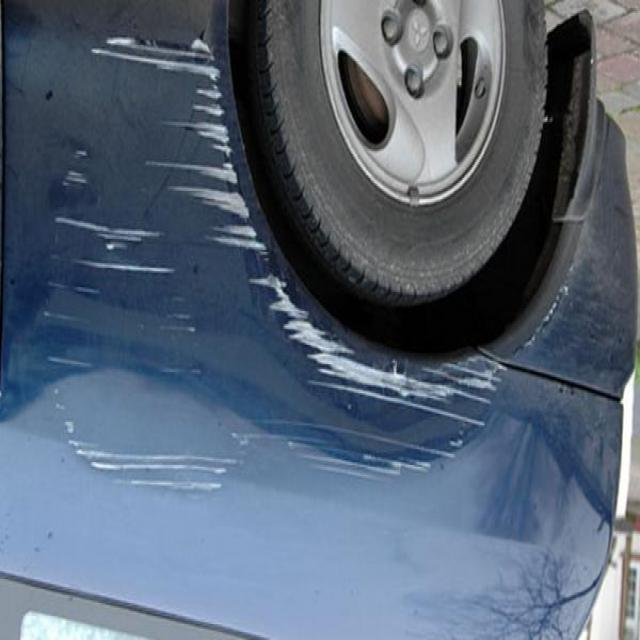scratch: (23, 142, 255, 488), (264, 275, 580, 479), (90, 5, 233, 134)
